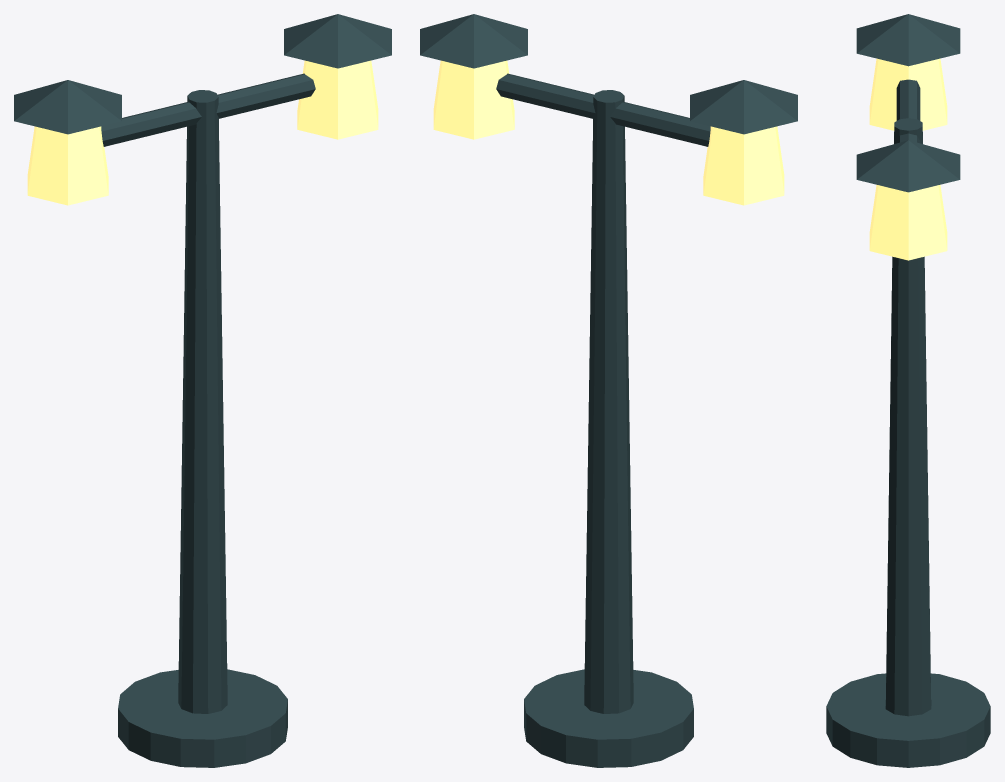
The model's file is riverside-lamp.glb.
3 renders of one model, left to right at view 1: azimuth 30°, elevation 25°; view 2: azimuth 150°, elevation 25°; view 3: azimuth 270°, elevation 25°, orthographic. The views are drawn at different scales.
Parts seen in each view (by area): view 1: riverside-lamp; view 2: riverside-lamp; view 3: riverside-lamp.
Part boxes in pixels (box(x1,y1,x2,y2)): riverside-lamp: box(14, 14, 391, 767); riverside-lamp: box(420, 14, 797, 767); riverside-lamp: box(826, 14, 990, 767).
Bounding box in the file's own units: 2.8 × 4.85 × 1.1.
